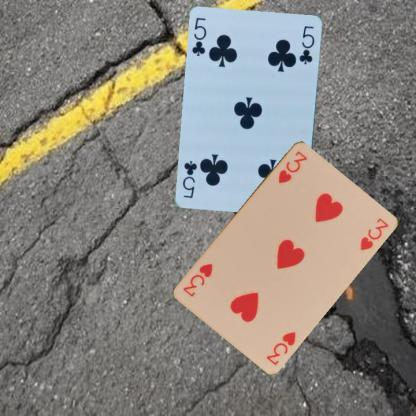3h: (263, 329, 297, 366), (275, 148, 309, 184)
5c: (190, 15, 208, 57)
